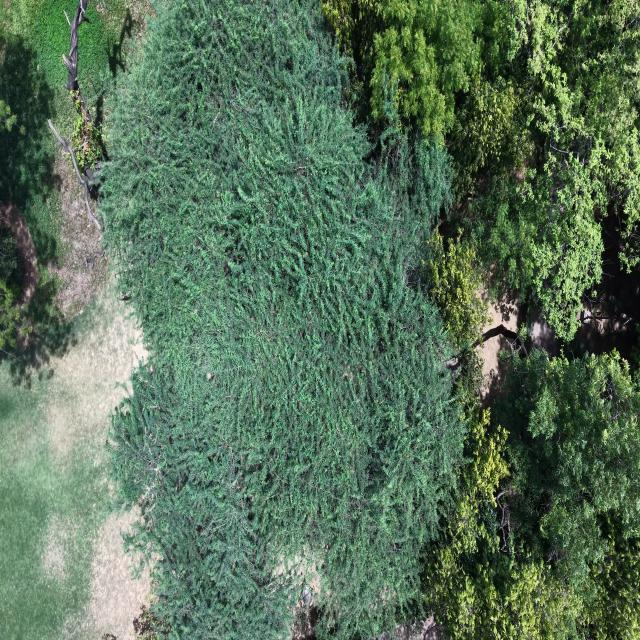DRY_AREA: (0, 0, 149, 639), (0, 283, 149, 639), (48, 149, 108, 317), (0, 203, 38, 304), (479, 335, 511, 405), (479, 336, 508, 404)
VEGETATION_TREE: (100, 0, 639, 639), (101, 0, 464, 638), (323, 0, 639, 338), (0, 0, 133, 639), (425, 350, 639, 639), (470, 2, 639, 338), (0, 290, 144, 639), (0, 0, 132, 339), (500, 351, 639, 637), (498, 350, 639, 601), (322, 0, 485, 141), (0, 2, 64, 267), (48, 0, 105, 231), (424, 229, 487, 350), (0, 203, 38, 359), (0, 227, 24, 353), (0, 227, 22, 351), (0, 280, 22, 351), (0, 227, 22, 296), (0, 100, 16, 131)
